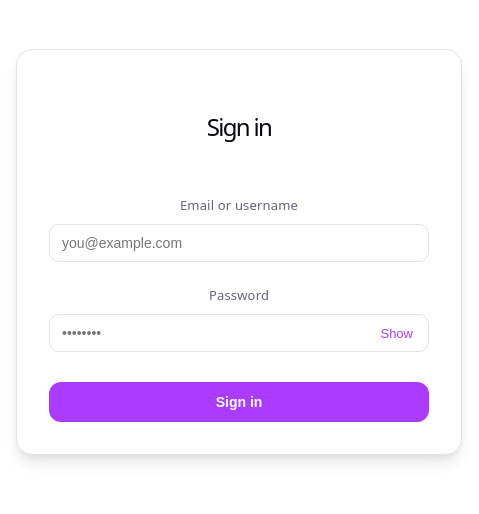
Test: Login › shows the login error returned by the API
Type "dispatcher@example.com" into the field with placeholder "you@example.com" at (239, 243), box [49,224,429,262]
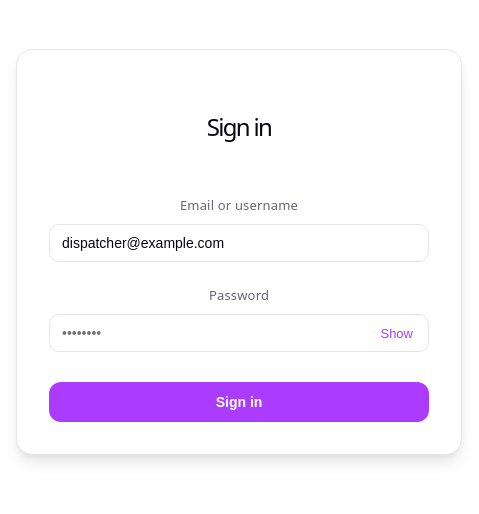
Type "wrong-password" into the password field with placeholder "••••••••" at (239, 333), box [49,314,429,352]
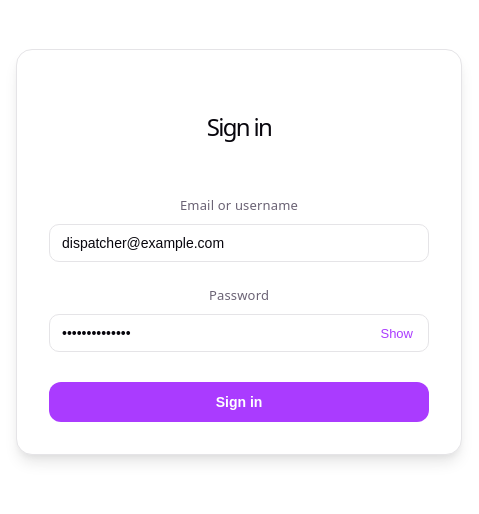
Click the button "Sign in" at (239, 402), box [49,382,429,422]
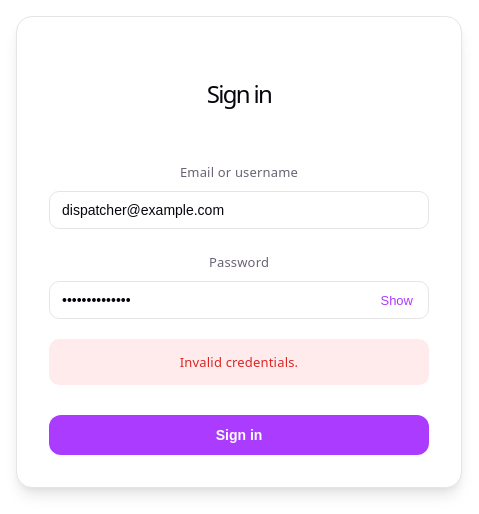
Check: the text "Invalid credentials." is shown, box [49,339,429,385]
